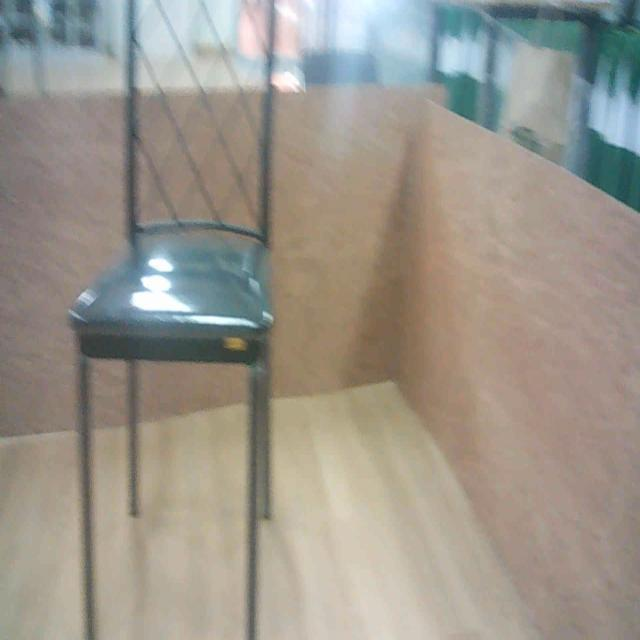emtpy: (82, 4, 275, 640)
